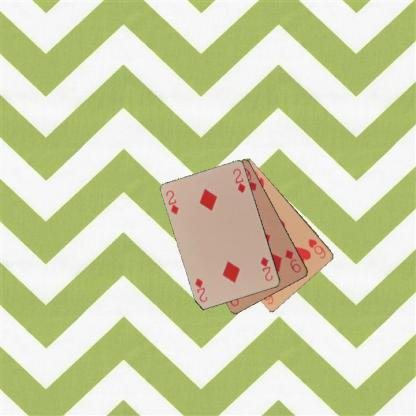2d: (258, 254, 274, 283), (164, 188, 180, 215)
6h: (306, 236, 327, 260)
9d: (283, 247, 302, 274)
